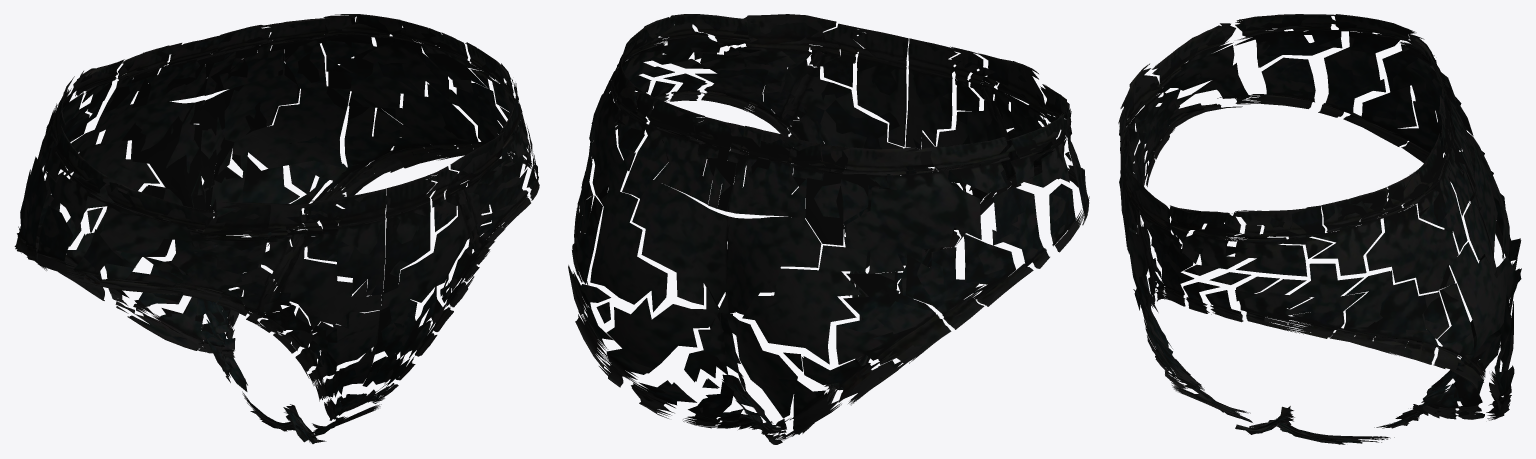
The model's file is dante.glb.
3 views of the same model, side by side, from view 1: azimuth 30°, elevation 25°; view 2: azimuth 150°, elevation 25°; view 3: azimuth 270°, elevation 25° (orthographic). The views are drawn at different scales.
Visible parts, largest first — view 1: geometry_0; view 2: geometry_0; view 3: geometry_0.
Part boxes in pixels (left/top/right/bottom): geometry_0: left=14, top=14, right=539, bottom=443; geometry_0: left=568, top=14, right=1089, bottom=444; geometry_0: left=1118, top=14, right=1521, bottom=444.
Size of the model in its own units: 0.3386 by 0.2443 by 0.2616.
1 material, 1 textured.
